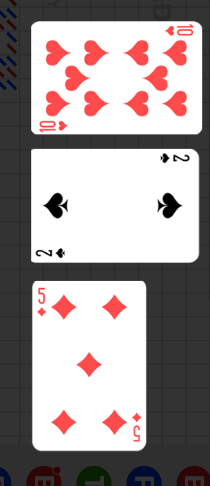10H: (162, 24, 195, 38)
2S: (34, 246, 67, 260)
9D: (131, 411, 143, 443)
